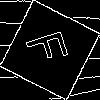F: (25, 25, 78, 68)
